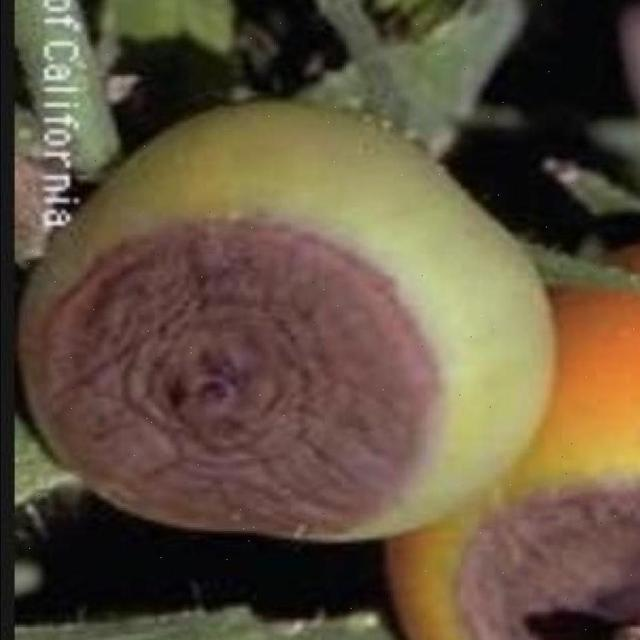Blossom End Rot Fruit: (117, 126, 368, 364)
